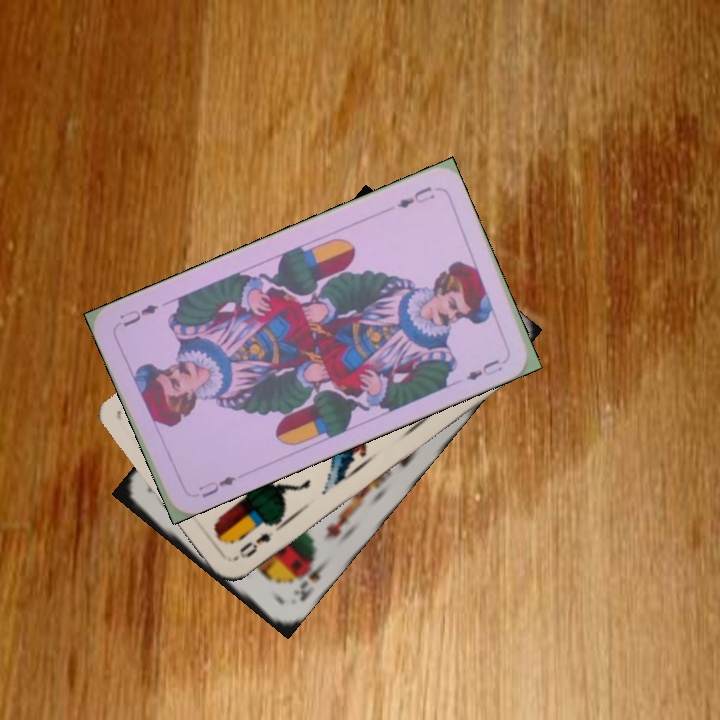EO: (230, 528, 276, 563)
EU: (194, 471, 239, 501), (393, 182, 438, 211)
SK: (290, 552, 329, 604)
